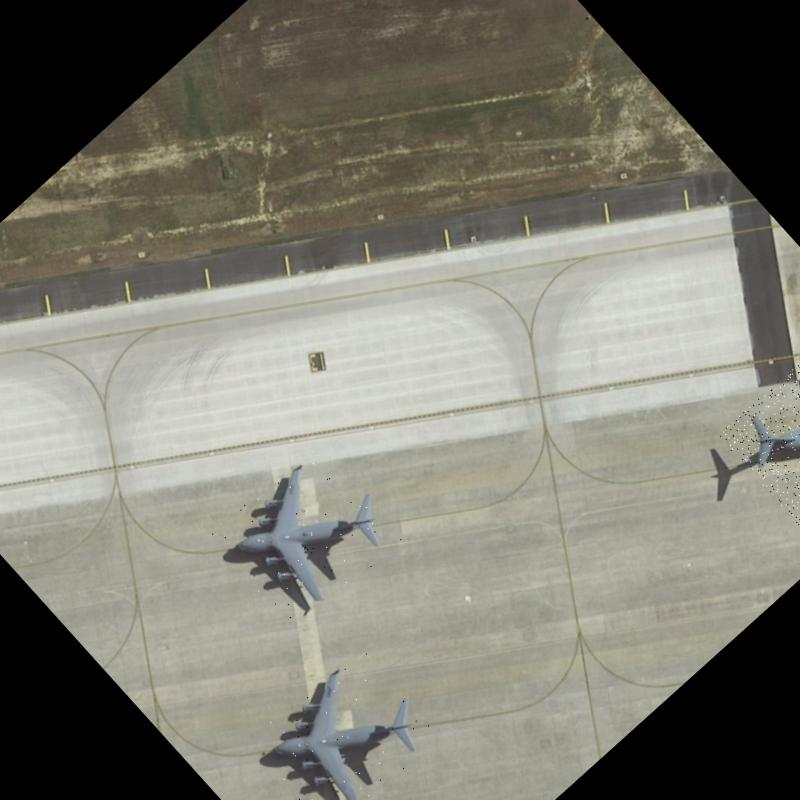A3: (205, 429, 414, 636), (245, 639, 442, 800), (717, 336, 800, 533)
